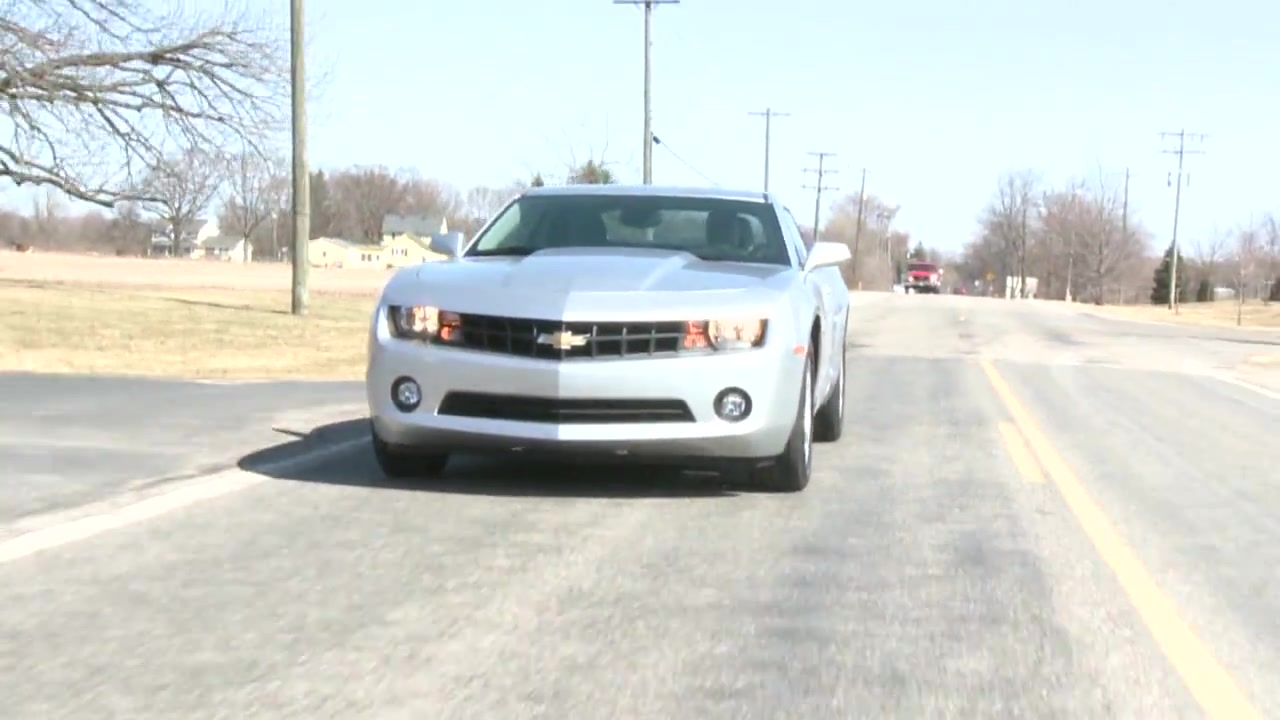car: (363, 183, 855, 494)
